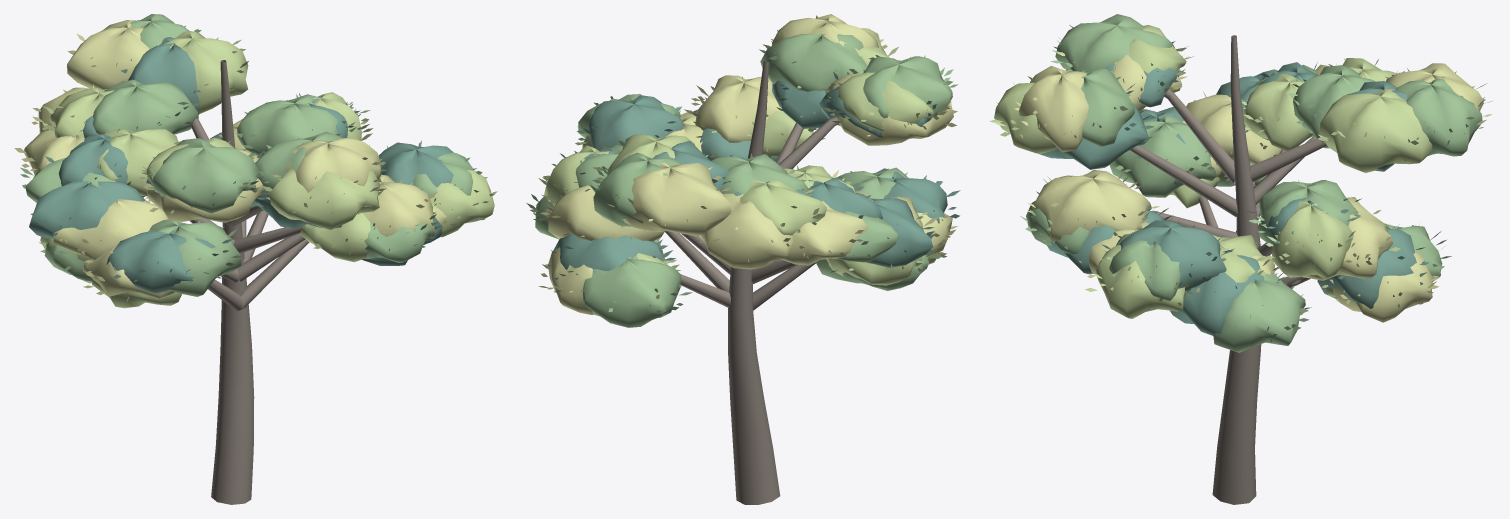
File: oak_arch.glb
3 renders of one model, left to right at view 1: azimuth 30°, elevation 25°; view 2: azimuth 150°, elevation 25°; view 3: azimuth 270°, elevation 25°, orthographic. The views are drawn at different scales.
Parts seen in each view (by area): view 1: oak_arch; view 2: oak_arch; view 3: oak_arch.
Part boxes in pixels (bbox=[...]): oak_arch: bbox=[14, 14, 497, 504]; oak_arch: bbox=[526, 14, 960, 504]; oak_arch: bbox=[989, 14, 1492, 504].
Size of the model in its own units: 7.97 by 8.14 by 8.21.
